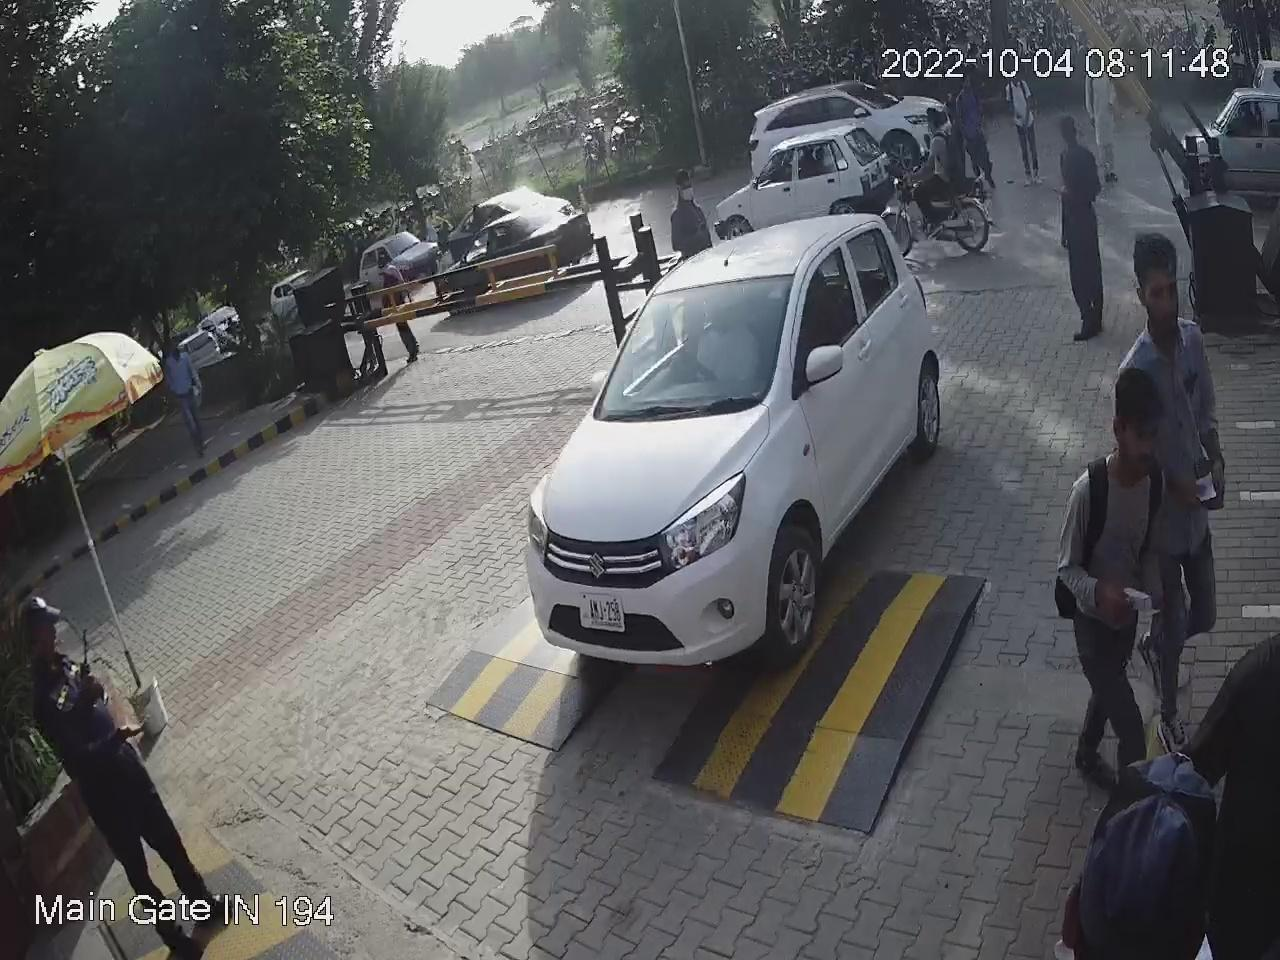windshield: (596, 267, 798, 419)
